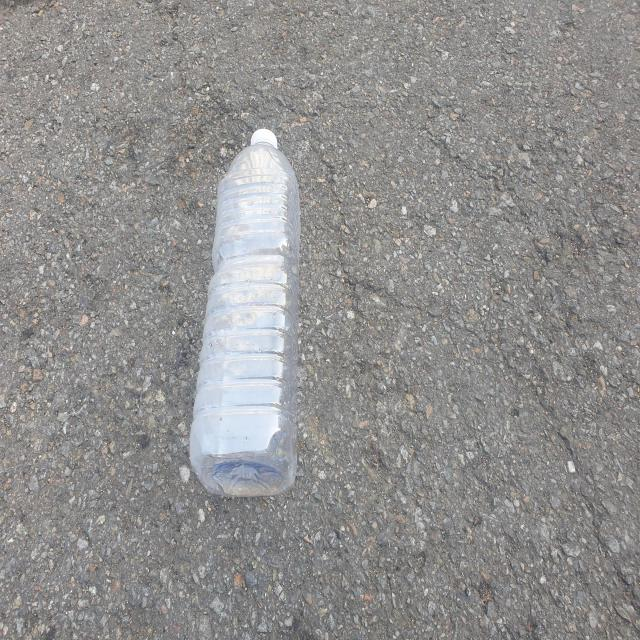plastic: (189, 128, 300, 497)
